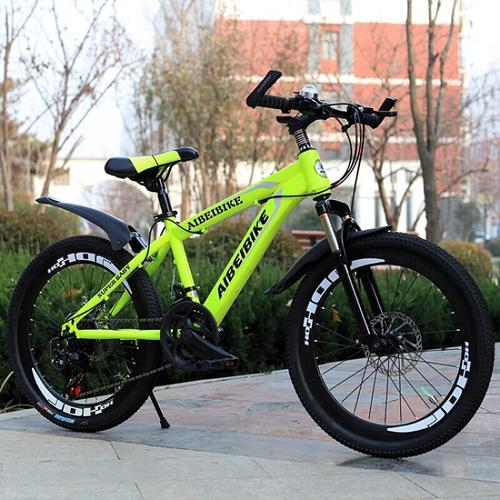单车: (10, 52, 498, 467)
